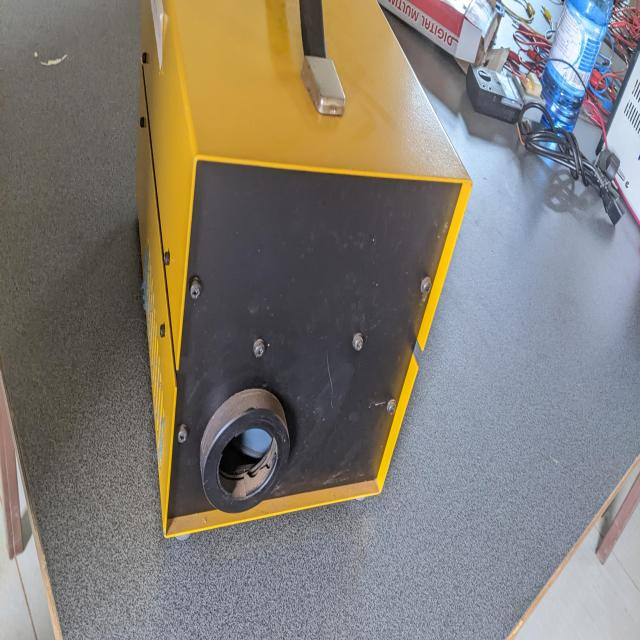Vacuum Pump: (143, 0, 478, 554)
